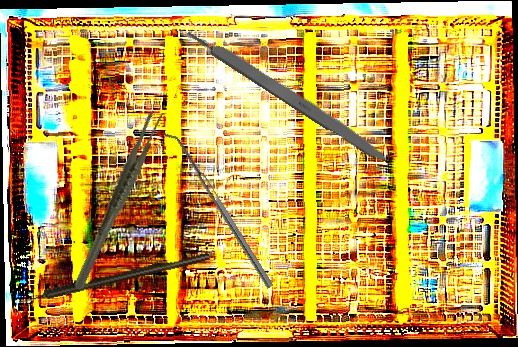Hook Surgical: (17, 251, 211, 306)
Scalpel Handle: (184, 23, 395, 168)
Spatula Surgical: (162, 126, 274, 293)
Tissue Forceps: (42, 106, 193, 293)
